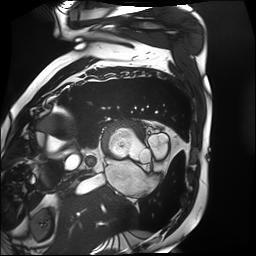ventricle: (110, 130, 151, 165)
